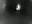person: (16, 4, 22, 14)
